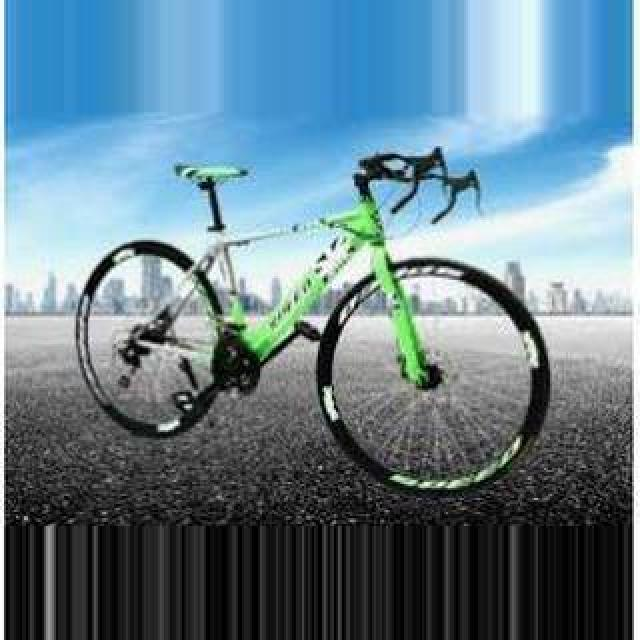Person: (72, 150, 556, 498)
